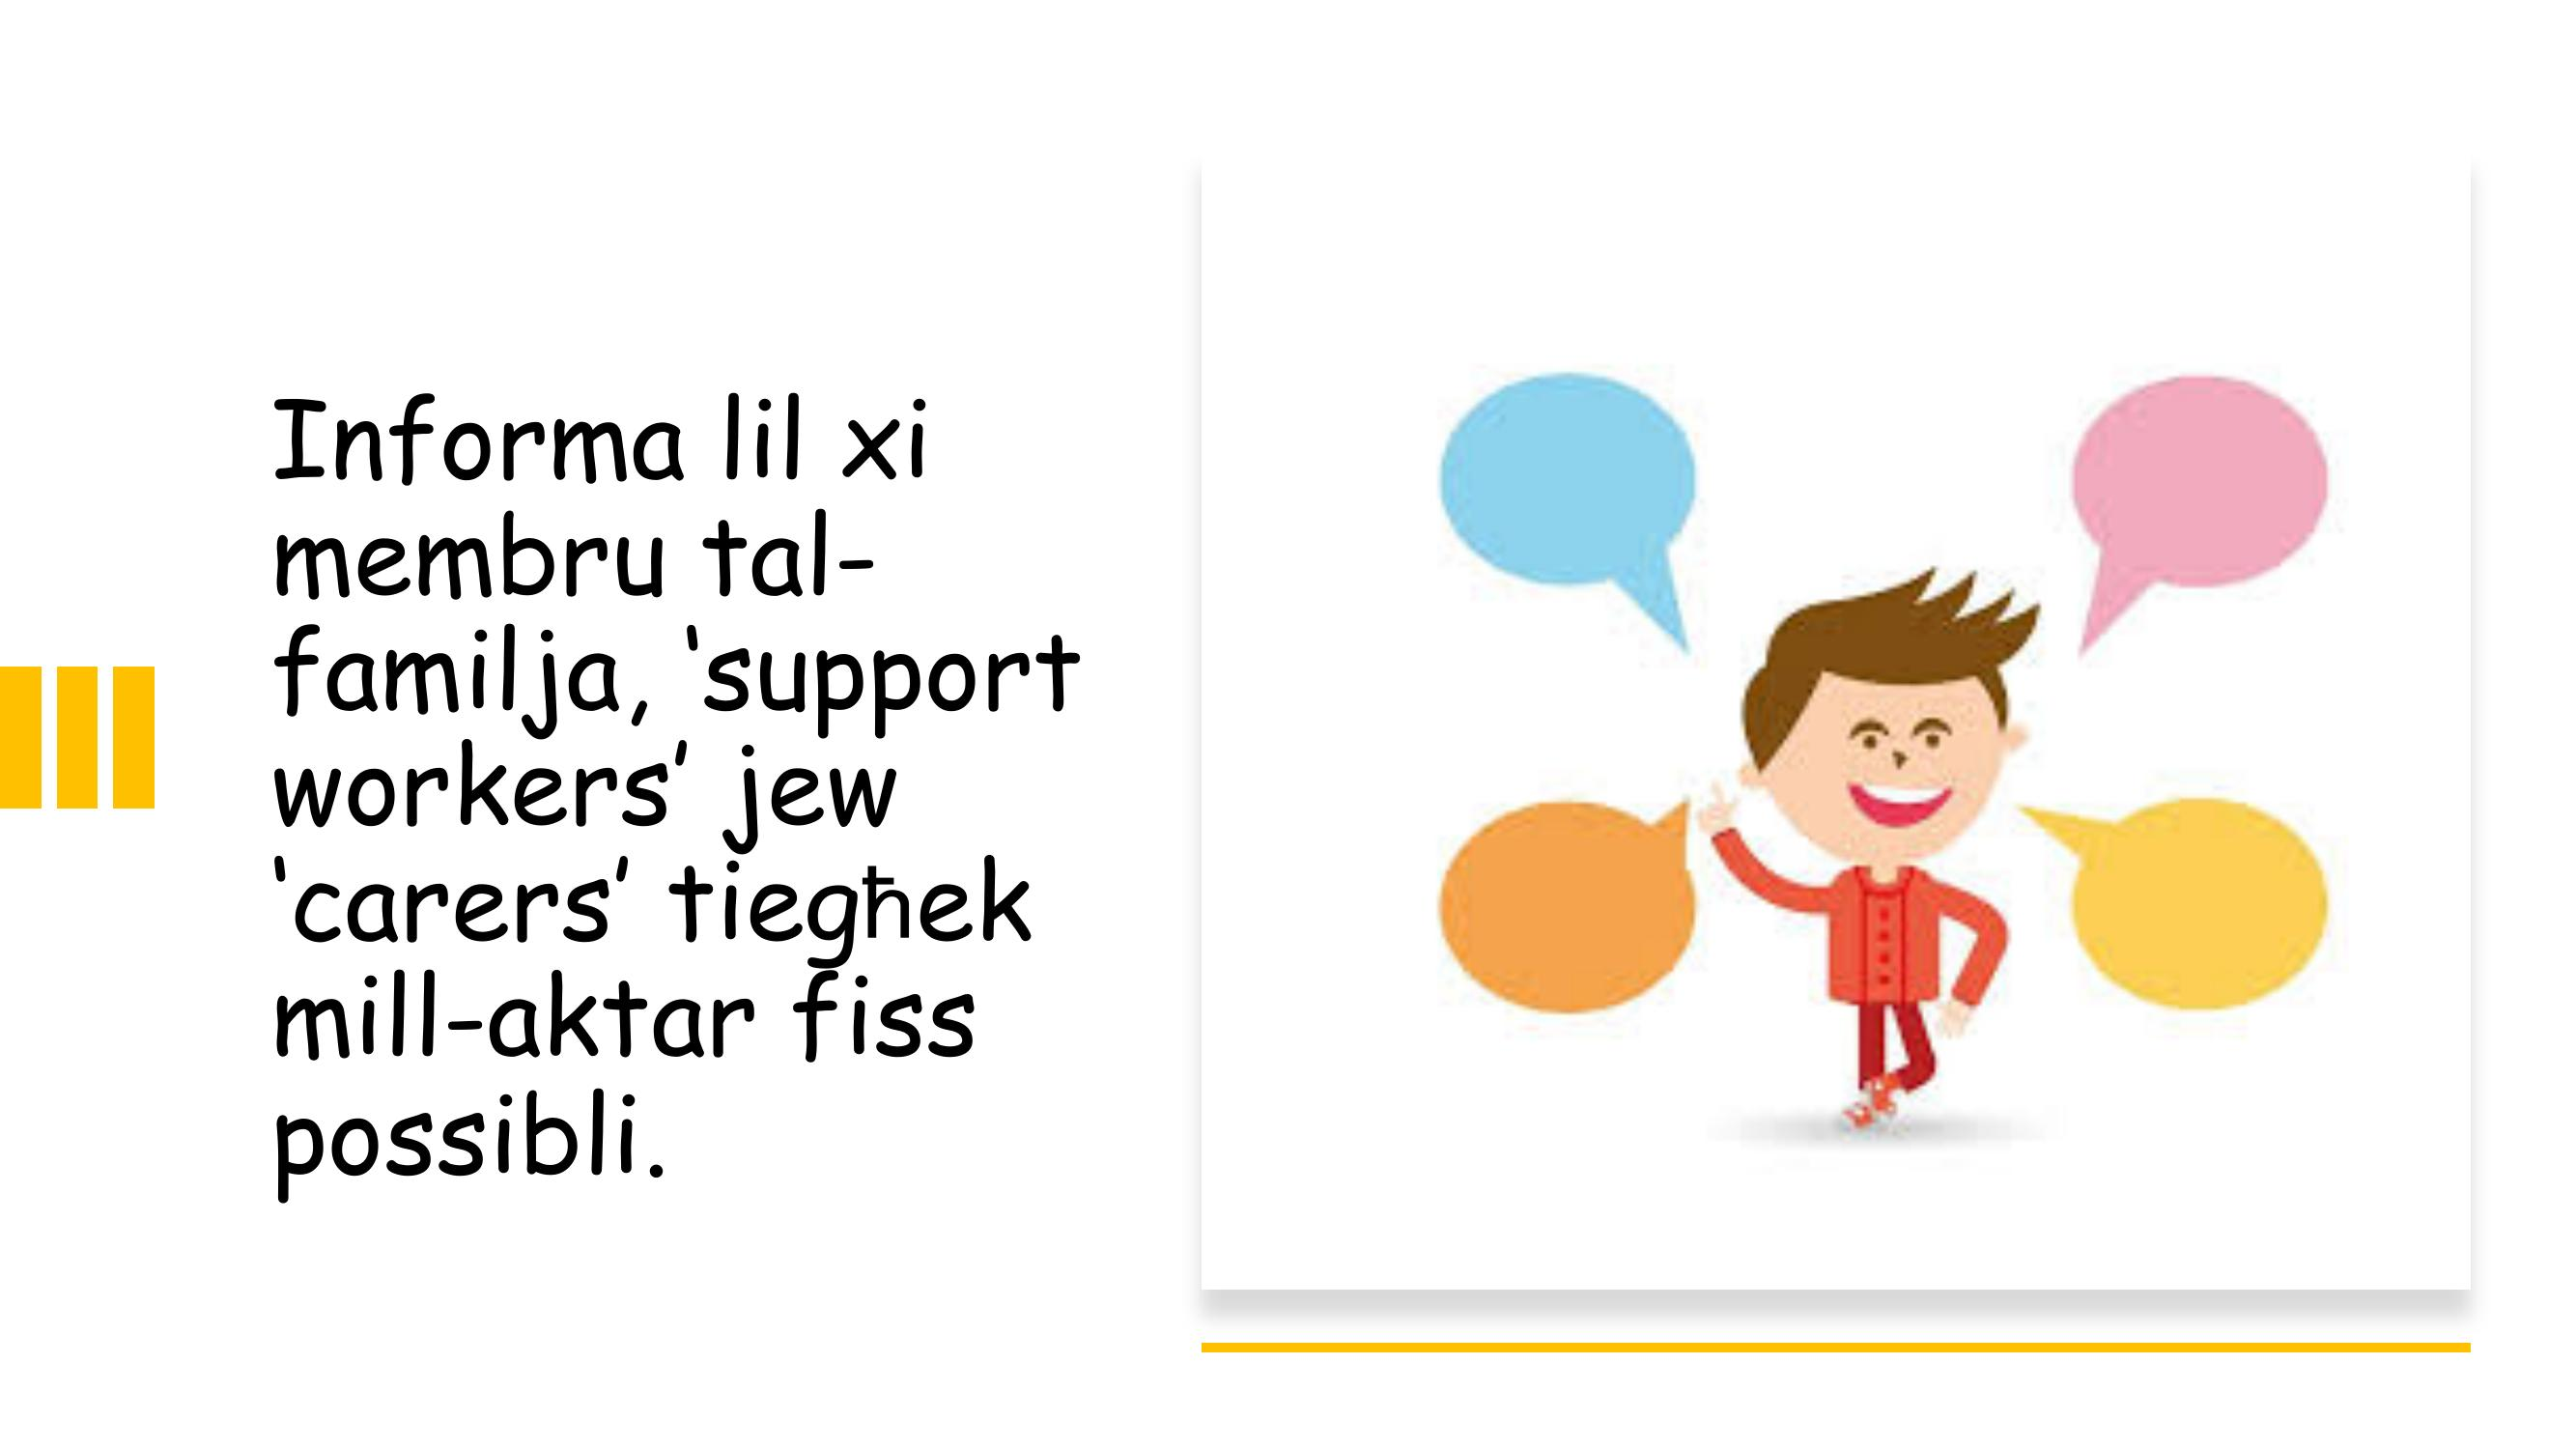text: (235, 361, 1116, 1228)
